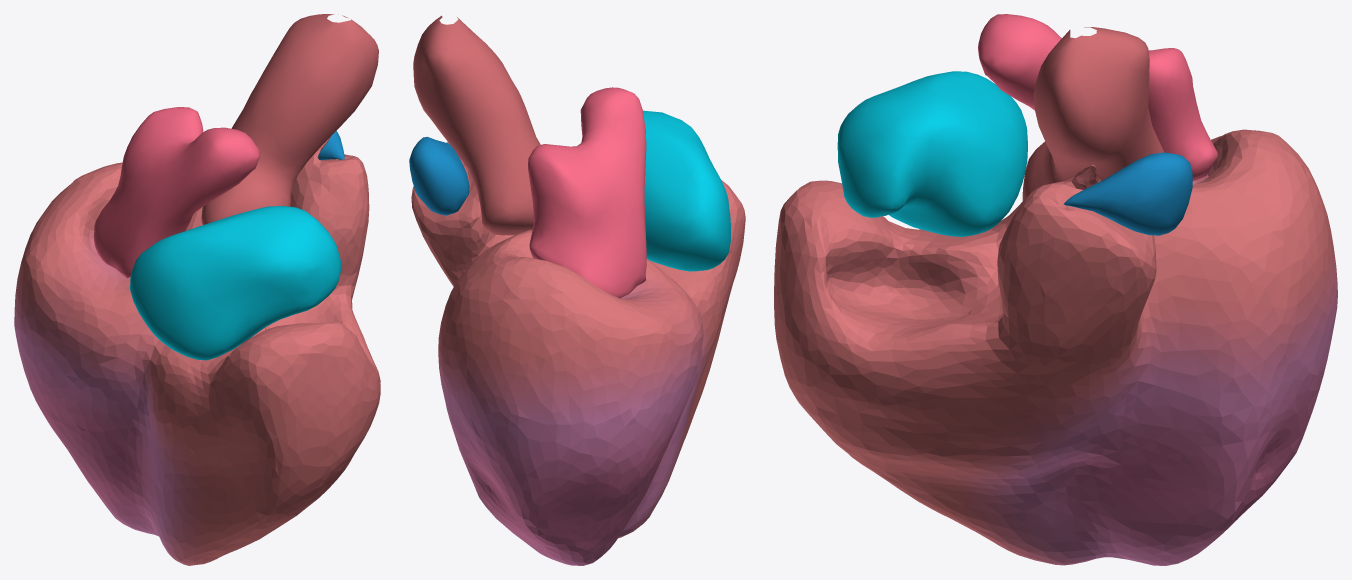
File: frame_73.glb
3 renders of one model, left to right at view 1: azimuth 30°, elevation 25°; view 2: azimuth 150°, elevation 25°; view 3: azimuth 270°, elevation 25°, orthographic. The views are drawn at different scales.
Parts seen in each view (by area): view 1: Renderer Node; view 2: Renderer Node; view 3: Renderer Node.
Boxes of the visible parts, box(x1,y1,x2,y2) form: Renderer Node: box(14, 14, 380, 565); Renderer Node: box(409, 15, 745, 565); Renderer Node: box(774, 14, 1337, 565).
Size of the model in its own units: 102 by 158 by 128.
